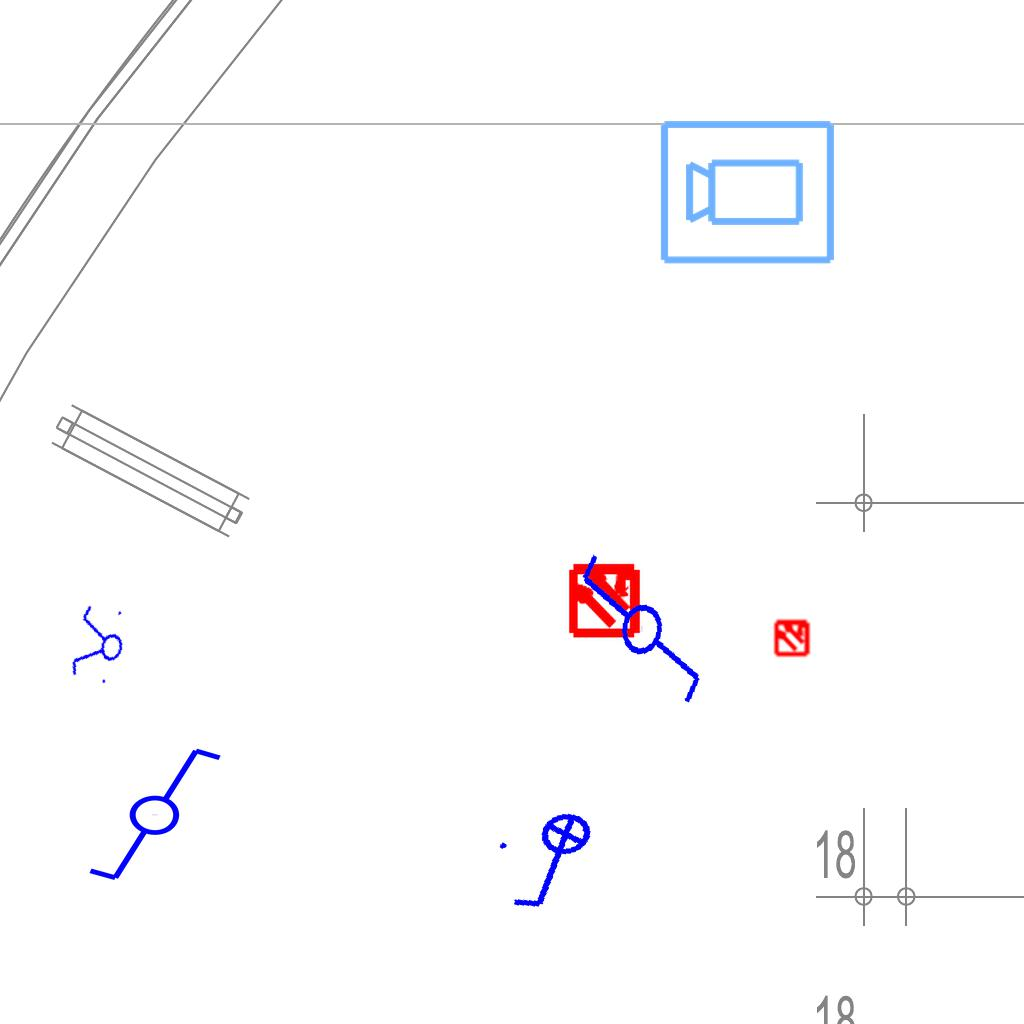Ausschalter_beleuchtet: (489, 805, 619, 921)
KFO_Kamera_mit_Festobjektiv: (657, 114, 839, 268)
OT_Multisensormelder_(Kombination_RMO_WMD): (548, 542, 661, 655), (764, 609, 820, 665)
Serienschalter: (66, 598, 132, 692)
Wechselschalter: (555, 548, 722, 726), (68, 741, 225, 885)
